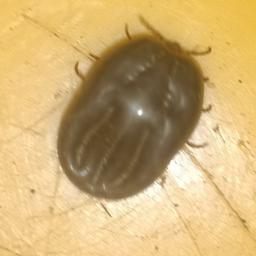Rhipicephalus sanguineus: (56, 23, 213, 204)
